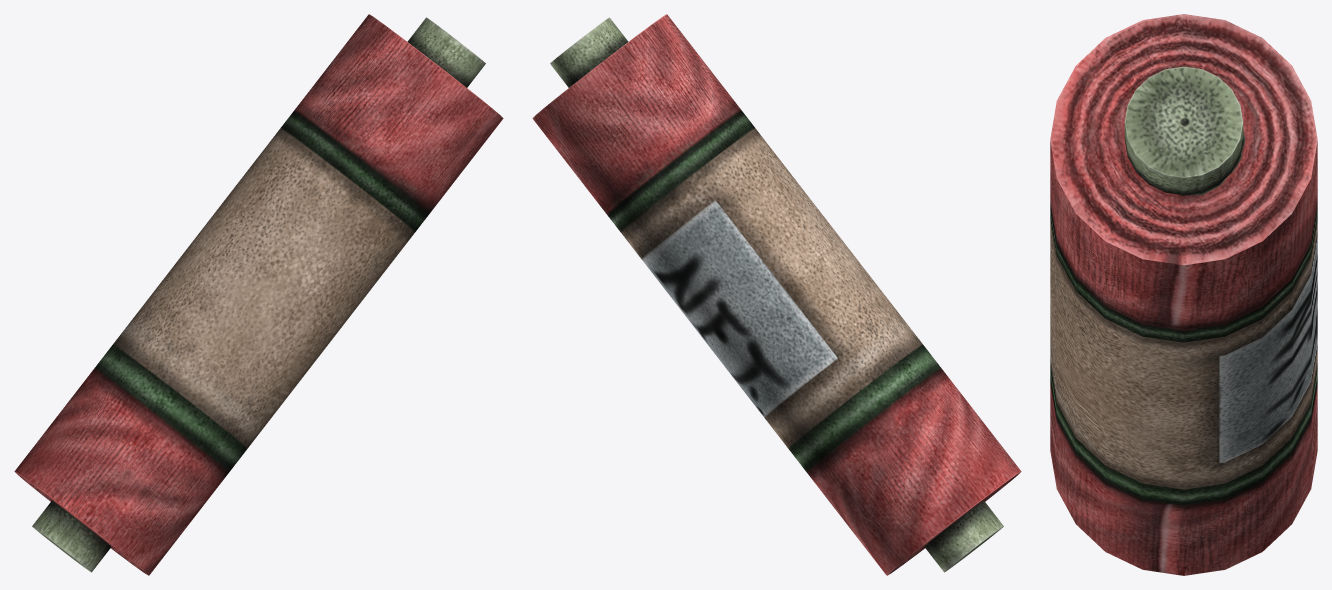
File: BACK_NINJA_SCROLL.fbx
The picture shows the model from 3 angles, left to right: view 1: azimuth 30°, elevation 25°; view 2: azimuth 150°, elevation 25°; view 3: azimuth 270°, elevation 25°; orthographic projection. The views are drawn at different scales.
Visible parts, largest first — view 1: BACK_NINJA SCROLL; view 2: BACK_NINJA SCROLL; view 3: BACK_NINJA SCROLL.
Boxes of the visible parts, x1=… form: BACK_NINJA SCROLL: x1=14, y1=14, x2=503, y2=575; BACK_NINJA SCROLL: x1=532, y1=14, x2=1021, y2=575; BACK_NINJA SCROLL: x1=1050, y1=14, x2=1317, y2=575.
Size of the model in its own units: 0.0367 by 0.0367 by 0.0118.
